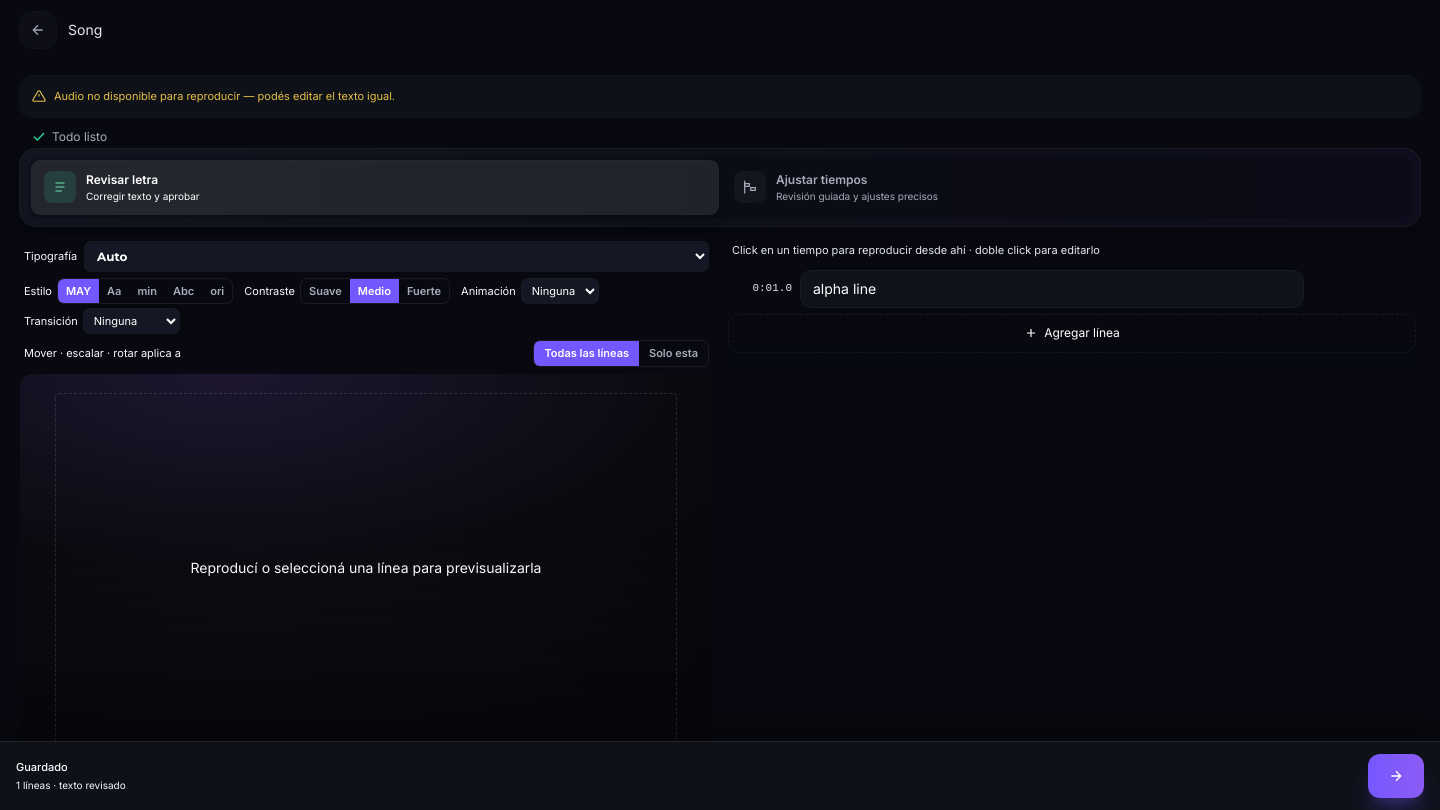
Scenario: LyricsEditor — advanced shell and timing safety › shows an unavailable-audio state instead of silently falling back to the basic list
Step 1. Click the tab "Ajustar tiempos" → click(750, 187), box [722,160,1408,214]
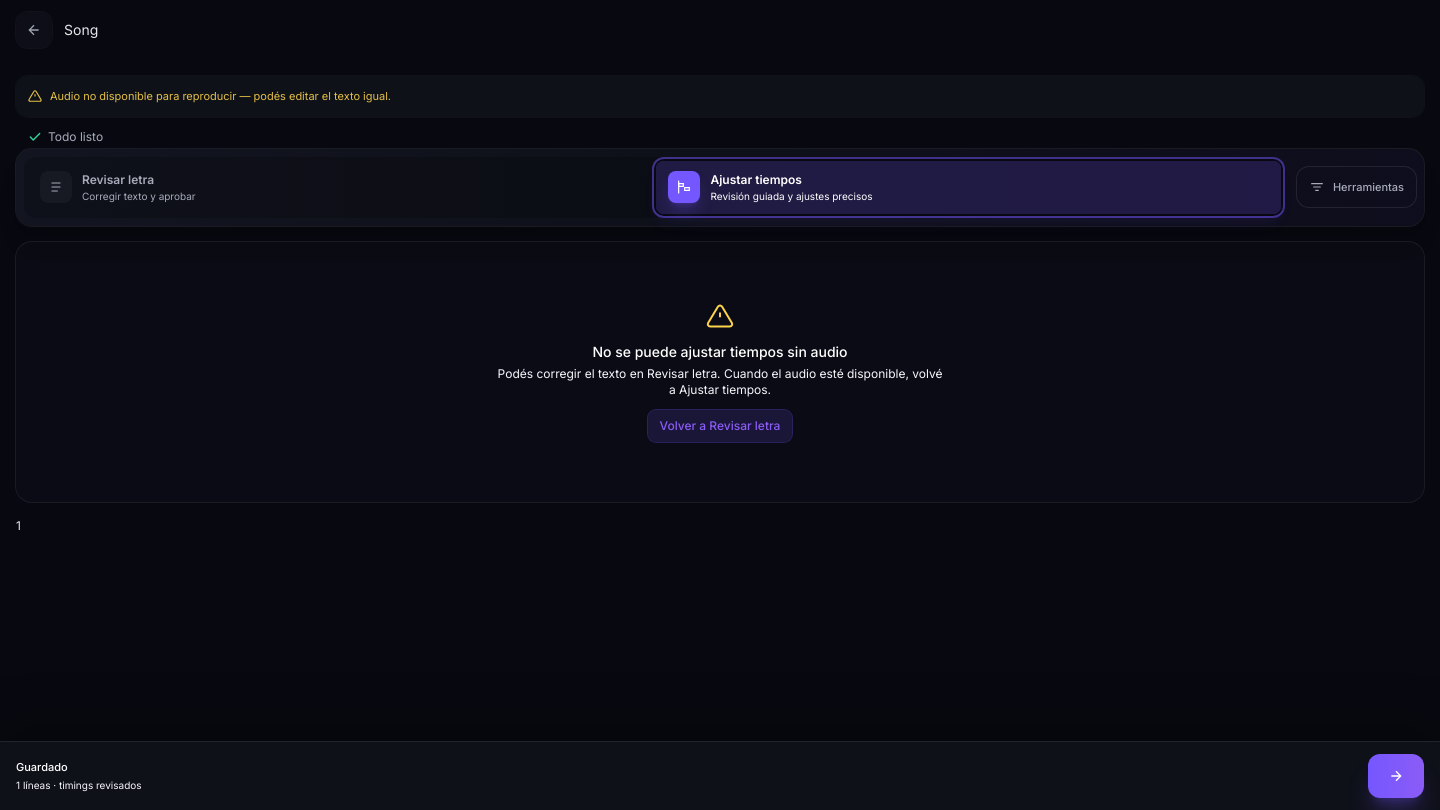
expect the field showing "alpha line" is not shown: met
expect the element with test id "advanced-audio-unavailable" is shown: met, box [498,302,942,442]
expect the text "No se puede ajustar tiempos sin audio" is shown: met, box [592,342,848,360]
